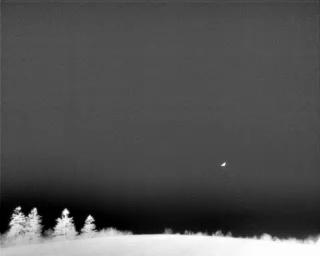BIRD: (218, 159, 229, 171)
